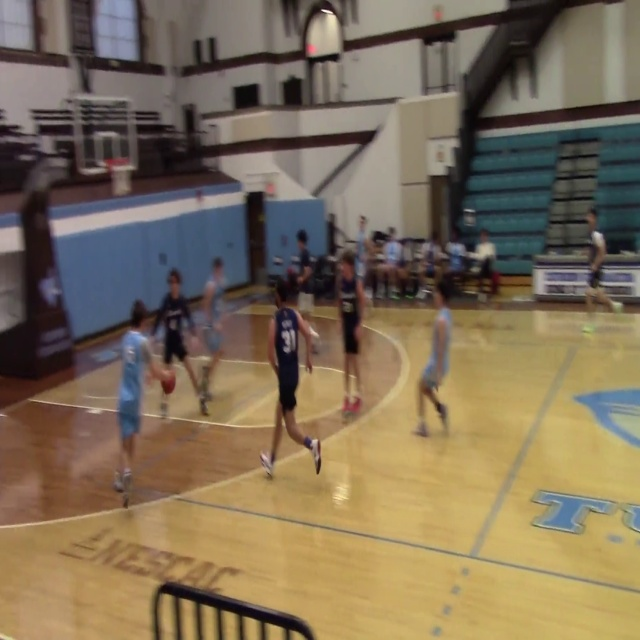Basketball: (160, 370, 176, 394), (612, 302, 623, 313), (582, 324, 594, 334)
